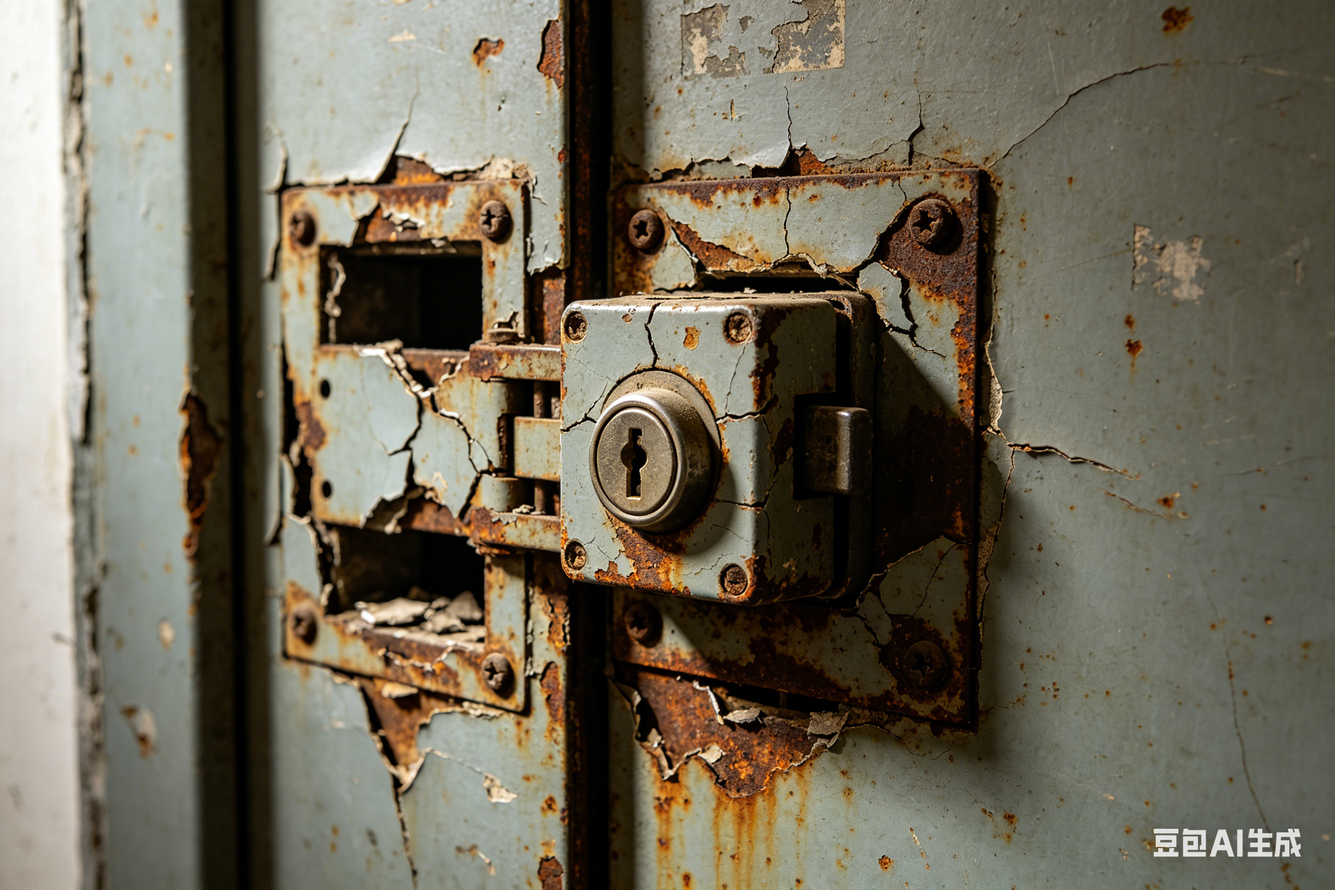BadLock: (299, 231, 511, 644)
